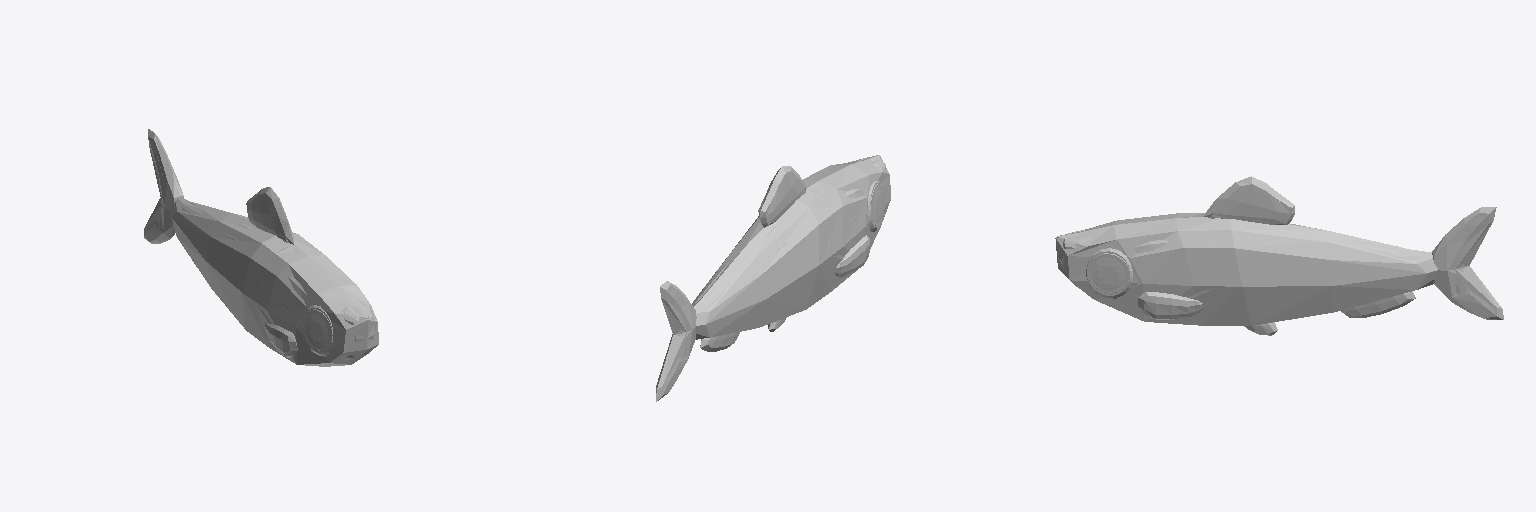
The model's file is Herring_LOD_All.obj.
The picture shows the model from 3 angles: view 1: azimuth 30°, elevation 25°; view 2: azimuth 150°, elevation 25°; view 3: azimuth 270°, elevation 25°; orthographic projection.
Parts seen in each view (by area): view 1: Herring_LOD1, Herring_LOD2, Herring_LOD0, Herring_LOD3; view 2: Herring_LOD1, Herring_LOD3, Herring_LOD0, Herring_LOD2; view 3: Herring_LOD1, Herring_LOD2, Herring_LOD0, Herring_LOD3.
Boxes of the visible parts, box(x1,y1,x2,y2) form: Herring_LOD1: box(144, 129, 356, 366); Herring_LOD2: box(148, 142, 378, 366); Herring_LOD0: box(161, 201, 373, 364); Herring_LOD3: box(145, 150, 370, 322); Herring_LOD1: box(656, 164, 884, 401); Herring_LOD3: box(656, 155, 882, 389); Herring_LOD0: box(677, 157, 885, 349); Herring_LOD2: box(669, 156, 890, 387); Herring_LOD1: box(1086, 176, 1503, 335); Herring_LOD2: box(1055, 189, 1487, 321); Herring_LOD0: box(1057, 215, 1465, 298); Herring_LOD3: box(1057, 221, 1501, 307).
Size of the model in its own units: 0.2028 by 0.4345 by 1.11.